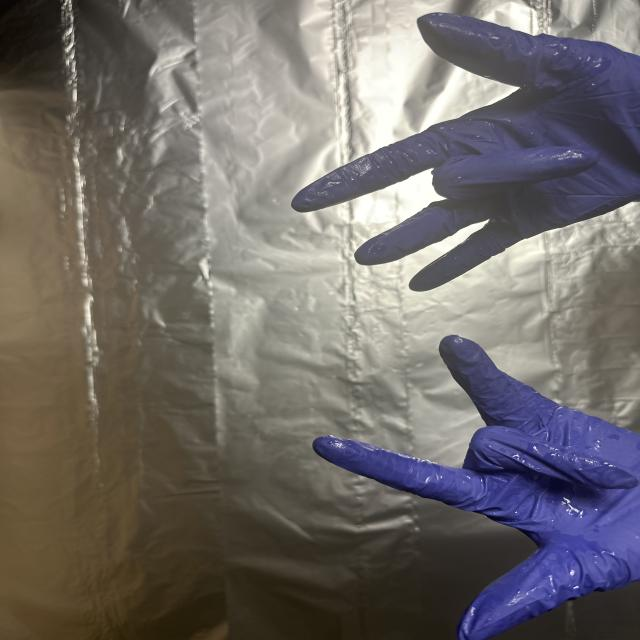gloves_contaminated: (313, 336, 640, 640), (292, 13, 640, 291)
